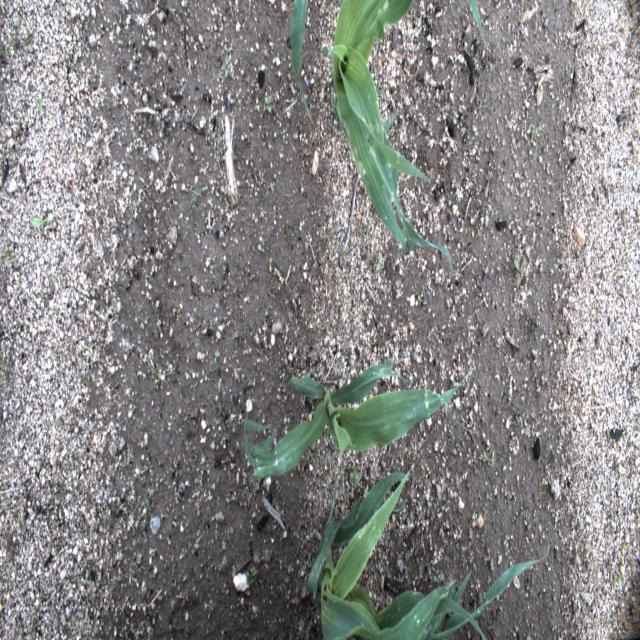crop: (302, 465, 552, 635), (329, 1, 456, 266), (244, 357, 462, 482), (290, 0, 317, 133)
weed: (217, 46, 232, 87), (30, 208, 54, 232), (260, 93, 278, 118)
